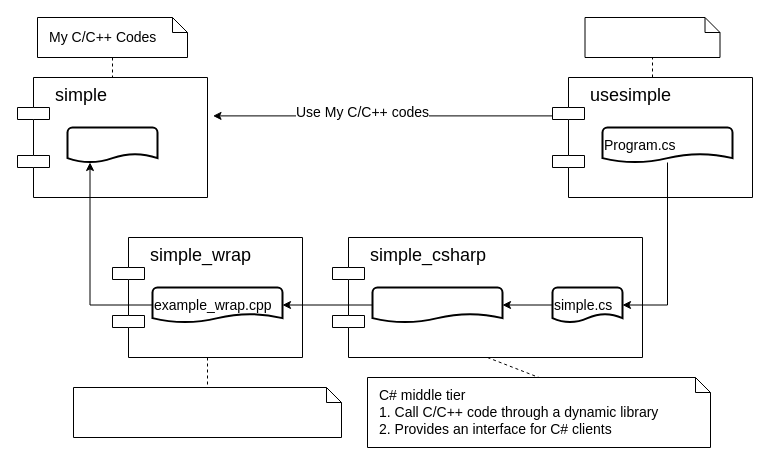
The diagram is 770 pixels wide and 465 high, and some of its shapes have lost their labels. The shapes that lost their labels are listed below. From the top down, each one's centre as x and y in pixels, then its label:
At pixel 652 37: "Client program".
At pixel 112 144: "example.h".
At pixel 437 304: "simplePINVOKE.cs".
At pixel 207 412: "C/C + + middle tier Wrap C/C++ codes the way C# wants it".
